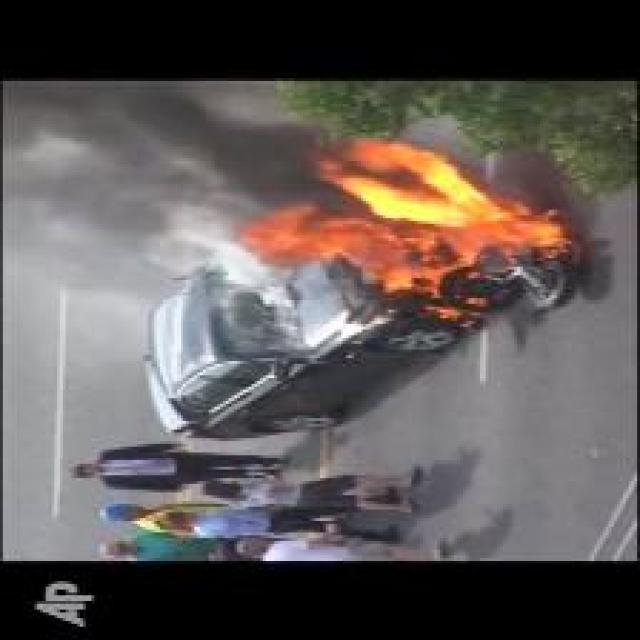Fire: (236, 136, 573, 293)
